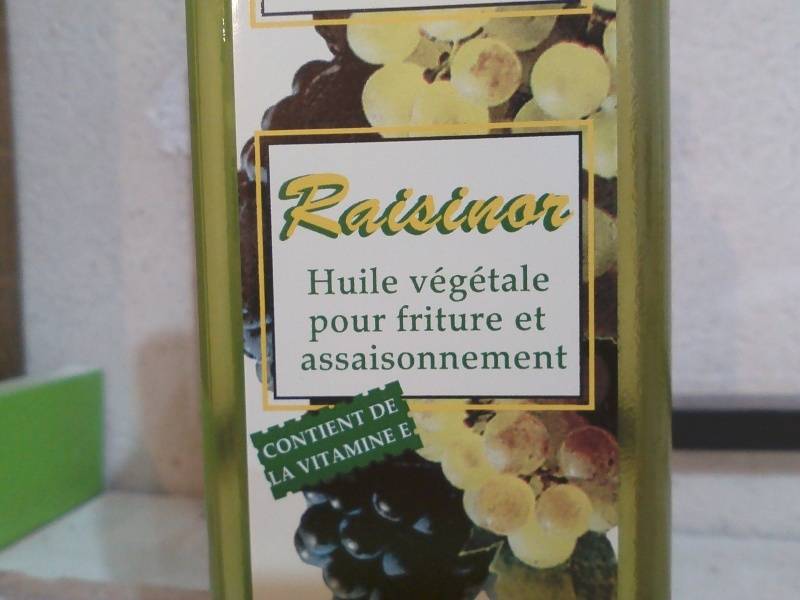text: (561, 171, 577, 247), (289, 171, 304, 247), (305, 171, 320, 247), (321, 171, 336, 247), (337, 171, 352, 247), (353, 171, 368, 247), (369, 171, 384, 247), (385, 171, 400, 247), (401, 171, 416, 247), (417, 171, 432, 247), (433, 171, 448, 247), (449, 171, 464, 247), (465, 171, 480, 247), (481, 171, 496, 247), (497, 171, 512, 247), (513, 171, 528, 247), (529, 171, 544, 247), (545, 171, 560, 247), (276, 171, 288, 247), (273, 409, 288, 463), (289, 409, 304, 463), (305, 409, 320, 463), (321, 409, 336, 463), (337, 409, 352, 463), (353, 409, 368, 463), (305, 427, 320, 477), (321, 427, 336, 477), (337, 427, 352, 477), (353, 427, 368, 477), (369, 427, 384, 477), (259, 409, 272, 463), (385, 427, 399, 477), (417, 263, 432, 303), (433, 263, 448, 303), (449, 263, 464, 303), (465, 263, 480, 303), (481, 263, 496, 303), (497, 263, 512, 303), (513, 263, 528, 303), (529, 263, 544, 303), (321, 312, 336, 345), (337, 312, 352, 345), (353, 312, 368, 345), (369, 312, 384, 345), (305, 267, 320, 297), (321, 267, 336, 297), (337, 267, 352, 297), (353, 267, 368, 297), (369, 267, 384, 297), (305, 343, 320, 372), (321, 343, 336, 372), (337, 343, 352, 372), (353, 343, 368, 372), (369, 343, 384, 372), (385, 343, 400, 372), (401, 343, 416, 372), (417, 343, 432, 372), (433, 343, 448, 372), (449, 343, 464, 372), (465, 343, 480, 372), (481, 343, 496, 372), (497, 343, 512, 372), (513, 343, 528, 372), (529, 343, 544, 372), (545, 343, 560, 372), (529, 305, 544, 333), (401, 305, 416, 333), (417, 305, 432, 333), (433, 305, 448, 333), (449, 305, 464, 333), (465, 305, 480, 333), (481, 305, 496, 333), (385, 267, 399, 297), (385, 396, 401, 422), (296, 427, 304, 477), (308, 312, 320, 345), (369, 396, 384, 422), (515, 305, 528, 333), (407, 263, 416, 303), (273, 464, 288, 488), (545, 263, 552, 303), (401, 422, 414, 441), (561, 343, 569, 372), (497, 305, 504, 333), (289, 464, 297, 488), (298, 343, 304, 372), (266, 464, 272, 488), (396, 305, 400, 333), (369, 409, 371, 463), (385, 312, 388, 345), (545, 305, 548, 333), (397, 422, 400, 441)
